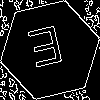E: (25, 25, 68, 77)
